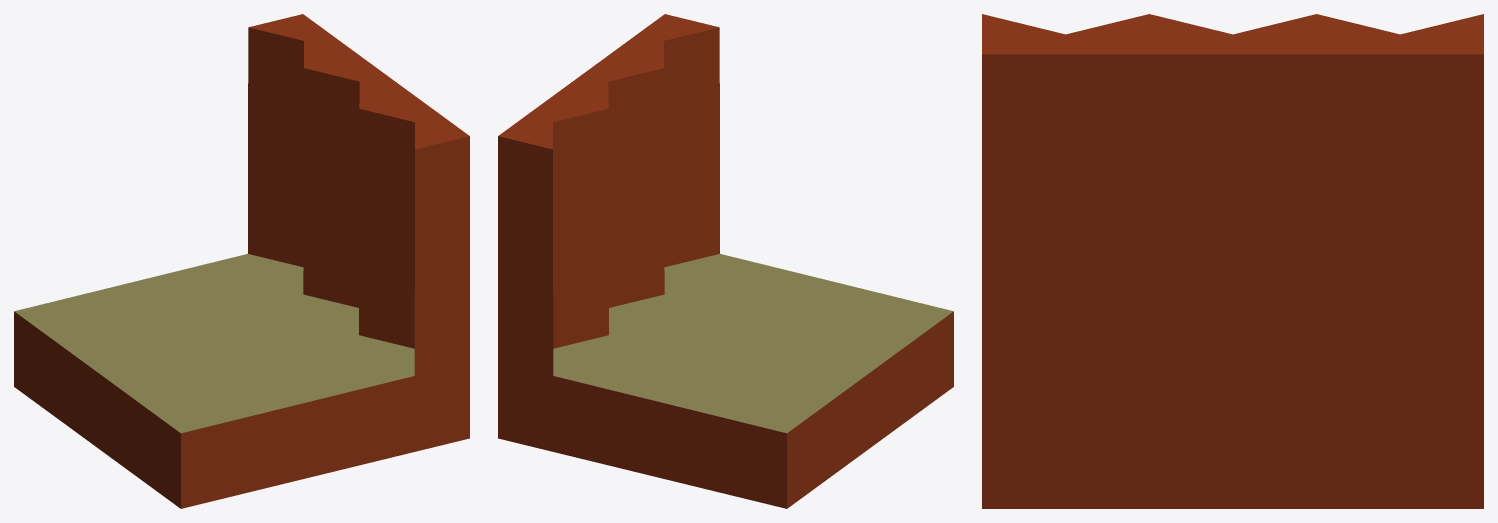
File: wall.fbx
The picture shows the model from 3 angles, left to right: view 1: azimuth 30°, elevation 25°; view 2: azimuth 150°, elevation 25°; view 3: azimuth 270°, elevation 25°; orthographic projection. The views are drawn at different scales.
Parts seen in each view (by area): view 1: wall; view 2: wall; view 3: wall.
Part boxes in pixels (bbox=[...]): wall: bbox=[14, 14, 469, 508]; wall: bbox=[498, 14, 953, 508]; wall: bbox=[982, 14, 1483, 508].
Bounding box in the file's own units: 200 × 200 × 200.
Materials: 1 (1 with a texture image).
